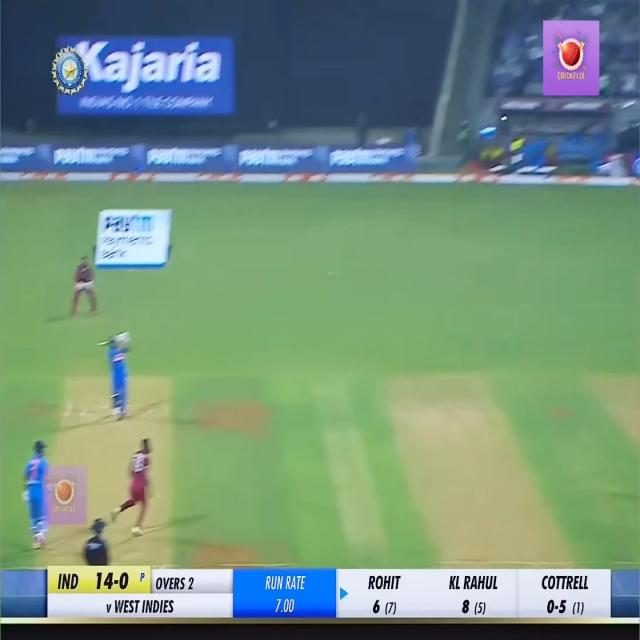fully_visible: (97, 200, 175, 271), (329, 140, 411, 180), (231, 144, 329, 177), (49, 143, 138, 176), (150, 141, 226, 179)
